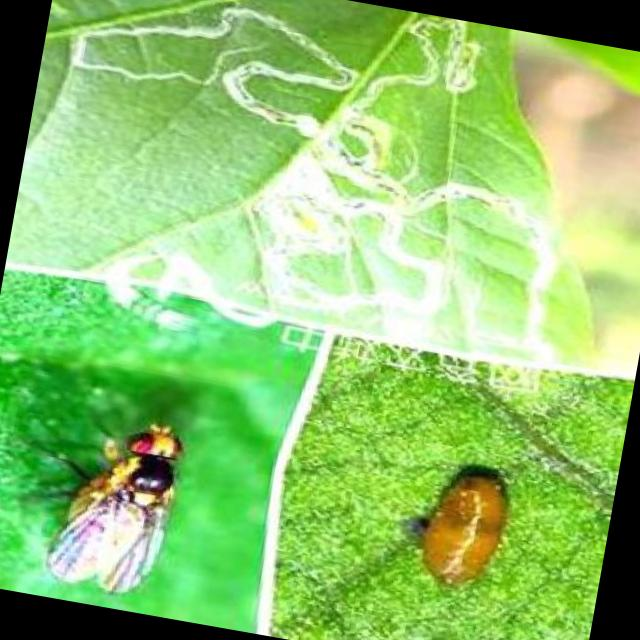whorl-maggot: (404, 456, 526, 596)
